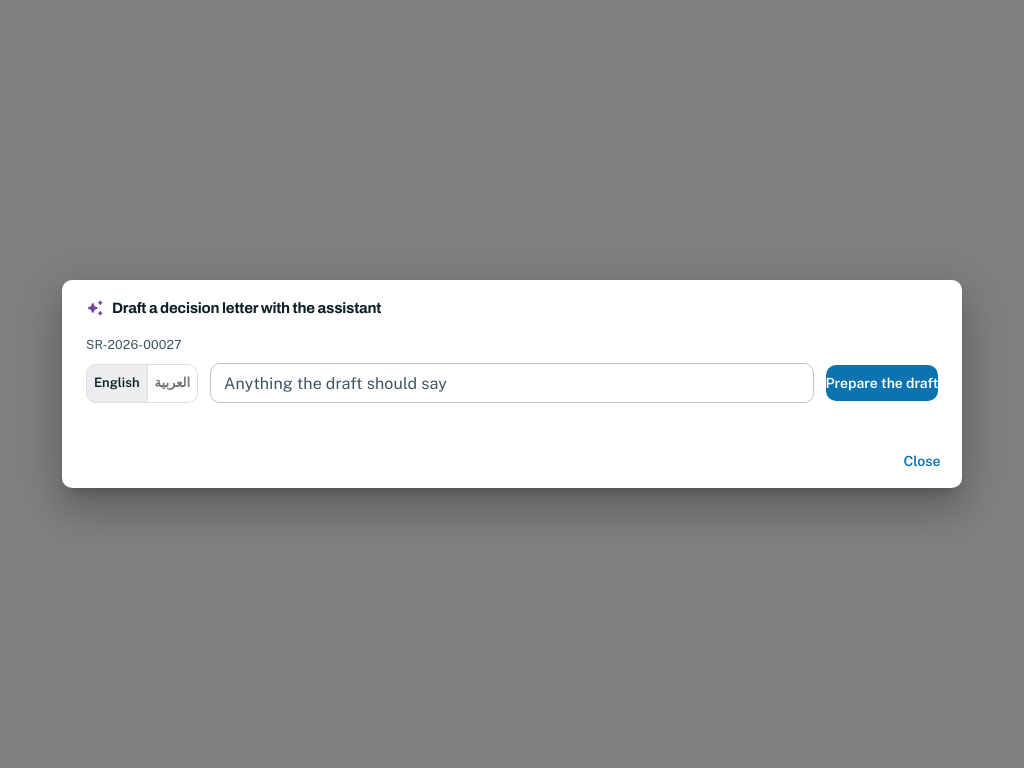
Test: bilingual drafting and document reading › prepares a draft in the language asked for and shows what it drew on
The width and height of the screenshot is (1024, 768).
Click the button with test id "draft-lang-ar": (172, 383) [146,364,198,403]
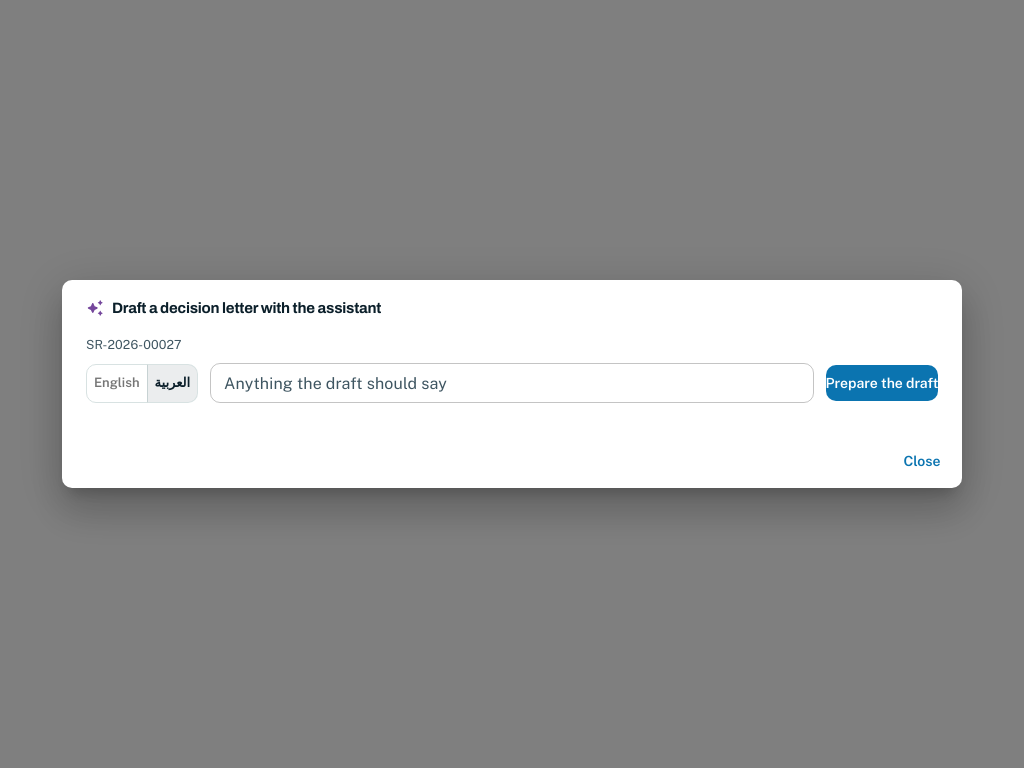
In the field with test id "draft-note": (512, 383) [210,363,814,403], type "Mention the fee"
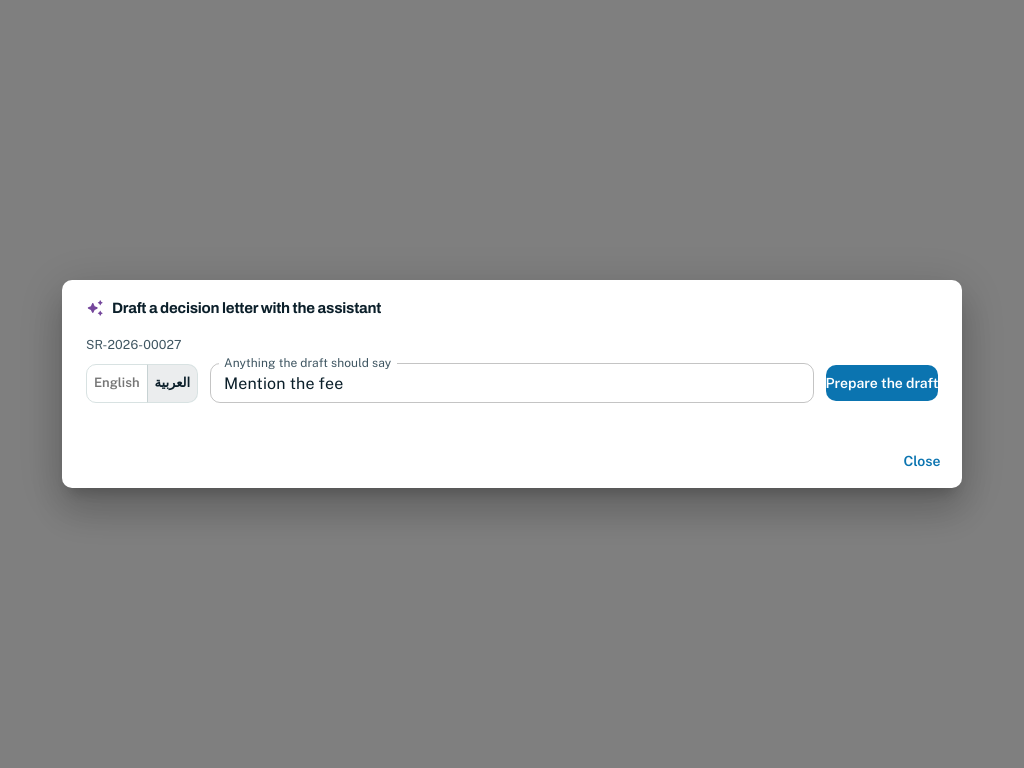
Click the button with test id "draft-prepare": (882, 383) [826,365,938,401]
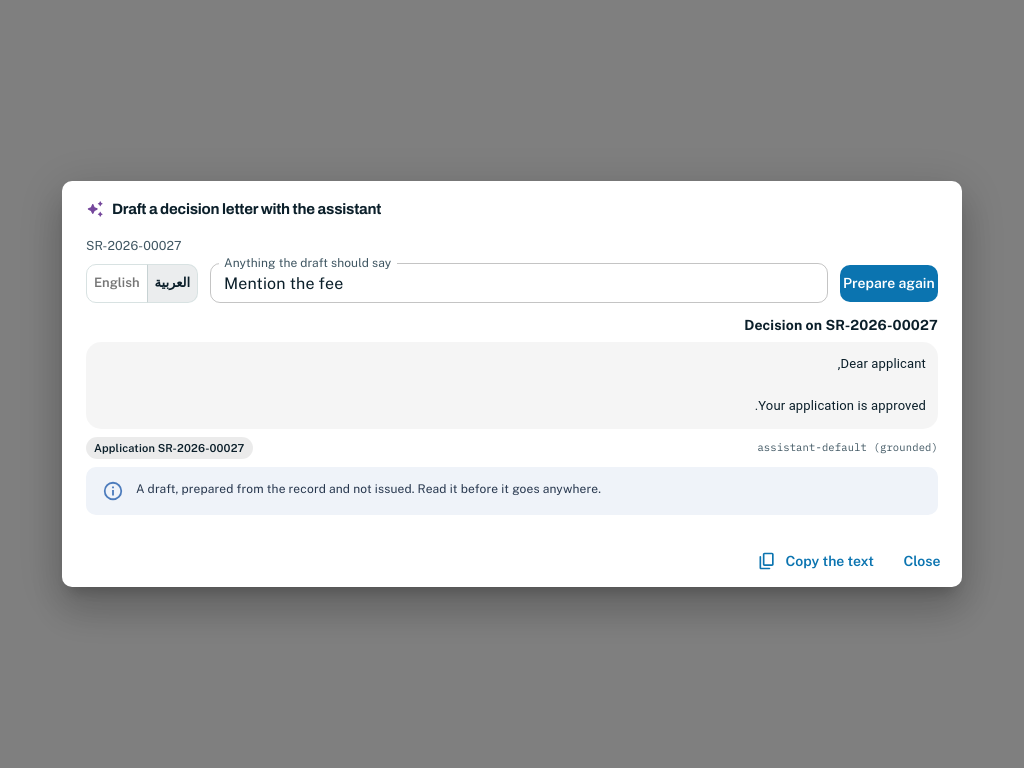
Expected: the element with test id "draft-body" shows "Your application is approved.", [755,356,926,413]
Expected: the text "Application SR-2026-00027" is shown, [86,440,252,456]
